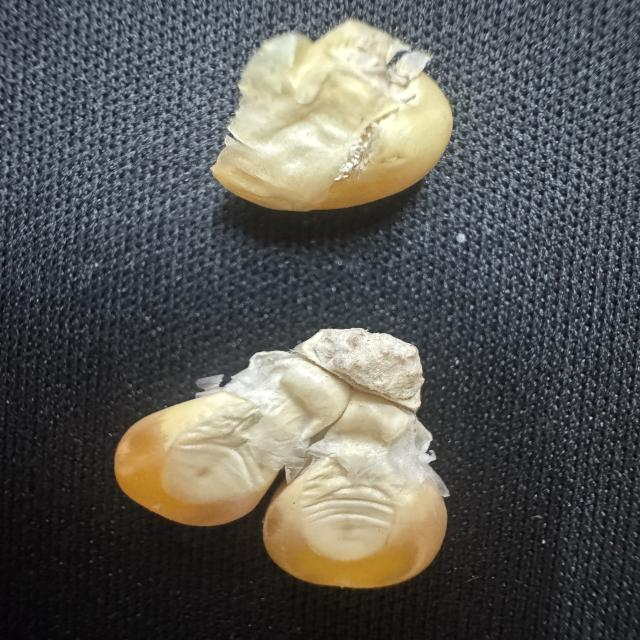Bad-Seed: (108, 323, 460, 594), (205, 11, 462, 220)
